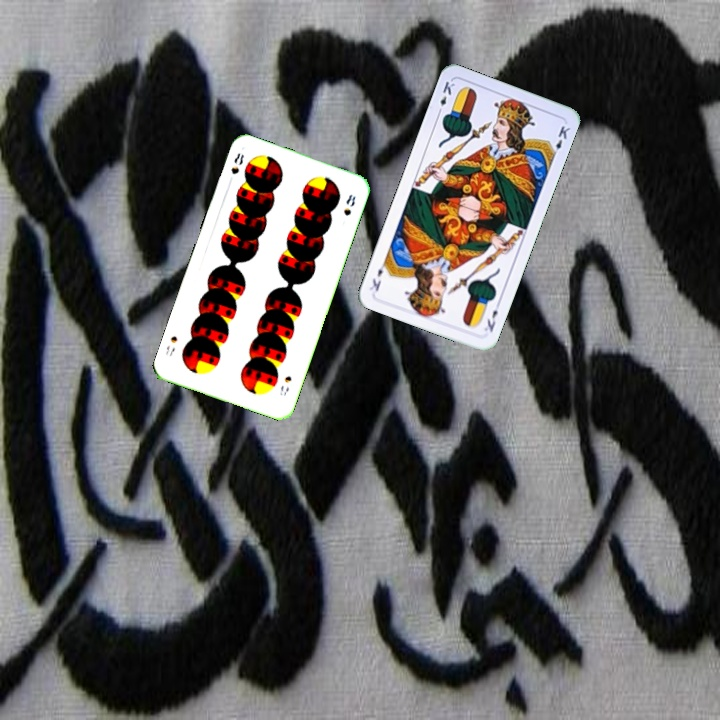EK: (434, 77, 457, 117), (480, 297, 503, 335)
S8: (227, 149, 247, 177), (276, 372, 294, 398)
